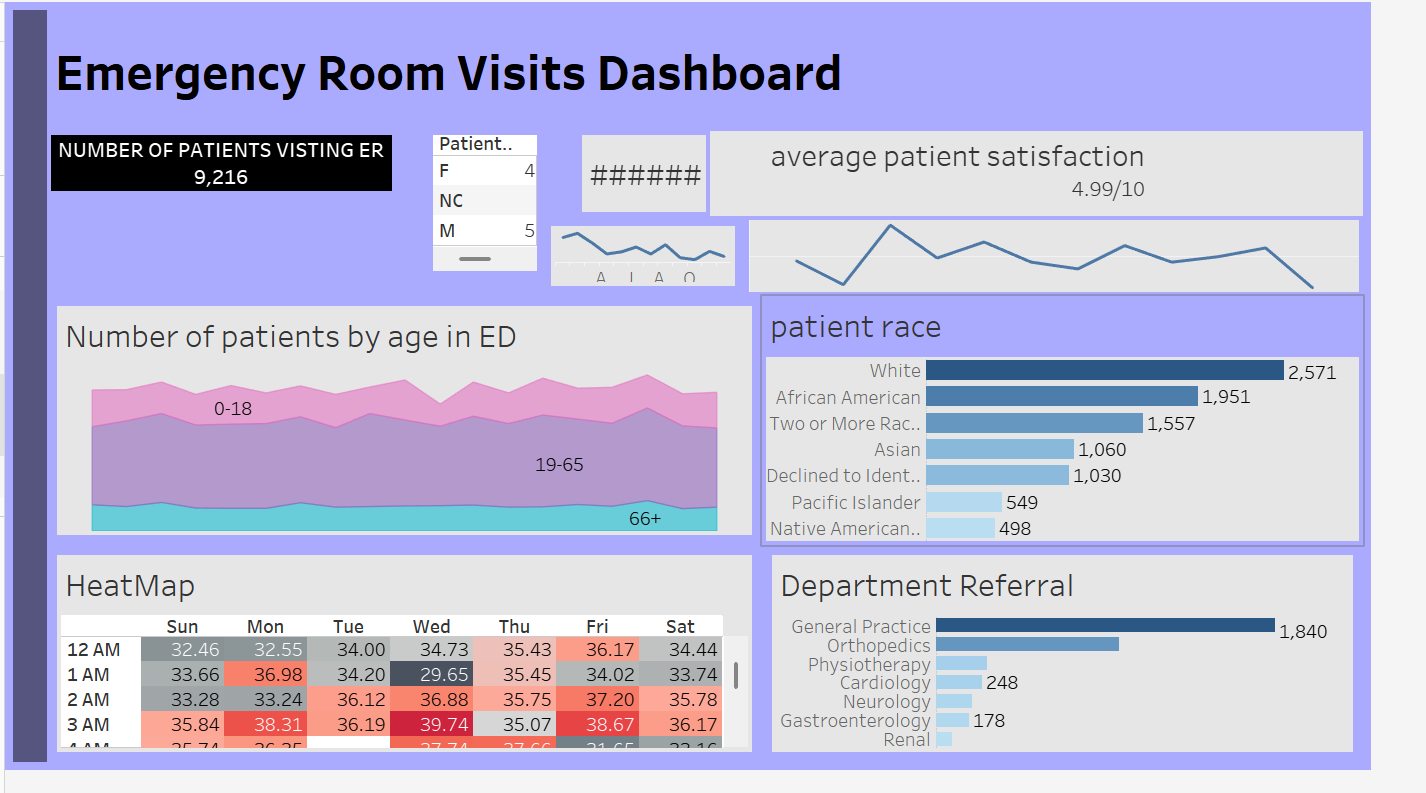

The dashboard page shown, as its layout file describes it:
{"tool":"tableau","page":{"name":"Dashboard 1","canvas":[1366,768],"ordinal":0},"visuals":[{"type":"image","param":"C:/Users/kavya vytla/Downloads/Untitled design.png","box":[8,8,149.1,121]},{"type":"text","box":[157.1,8,1200.9,121]},{"type":"worksheet","title":"GENDER","mark":"Automatic","rows":["patient_gender"],"box":[306.3,129,150.2,165]},{"type":"image","param":"C:/Users/kavya vytla/Downloads/1.jpg","box":[456.5,129,111.5,85.5]},{"type":"worksheet","title":"average waittime","mark":"Automatic","box":[568,129,137,85.5]},{"type":"worksheet","title":"Average satisfaction","mark":"Automatic","box":[935,129,423,75]},{"type":"worksheet","title":"PT VISITS","mark":"Automatic","box":[167.1,139,129.1,145]},{"type":"worksheet","title":"PATIENT WAITIME","mark":"Automatic","rows":["patient_waittime"],"cols":["date"],"box":[466.5,224.5,263.5,59.5]},{"type":"worksheet","title":"PT SATISFACTION","mark":"Automatic","rows":["patient_sat_score"],"cols":["date"],"box":[750,224.5,598,59.5]},{"type":"worksheet","title":"Age groupings","mark":"Area","rows":["patient_id"],"cols":["date"],"box":[167.1,304,579.9,229]},{"type":"worksheet","title":"patient race","mark":"Automatic","rows":["patient_race"],"cols":["patient_id"],"box":[767,304,581,229]},{"type":"worksheet","title":"HeatMap","mark":"Square","rows":["date"],"cols":["date"],"box":[167.1,553,579.9,197]},{"type":"worksheet","title":"Department Referral","mark":"Automatic","rows":["department_referral"],"cols":["patient_id"],"box":[767,553,581,197]}]}

Visuals, with their boxes in screenshot pixels (x1, y1, x2, y2), scaled from the page's 1366x768 canvas onto the 1426x793 screenshot:
image: {"x1": 8, "y1": 8, "x2": 164, "y2": 133}
text: {"x1": 164, "y1": 8, "x2": 1418, "y2": 133}
"GENDER" worksheet: {"x1": 320, "y1": 133, "x2": 477, "y2": 304}
image: {"x1": 477, "y1": 133, "x2": 593, "y2": 221}
"average waittime" worksheet: {"x1": 593, "y1": 133, "x2": 736, "y2": 221}
"Average satisfaction" worksheet: {"x1": 976, "y1": 133, "x2": 1418, "y2": 211}
"PT VISITS" worksheet: {"x1": 174, "y1": 144, "x2": 309, "y2": 293}
"PATIENT WAITIME" worksheet: {"x1": 487, "y1": 232, "x2": 762, "y2": 293}
"PT SATISFACTION" worksheet: {"x1": 783, "y1": 232, "x2": 1407, "y2": 293}
"Age groupings" worksheet (Area marks): {"x1": 174, "y1": 314, "x2": 780, "y2": 550}
"patient race" worksheet: {"x1": 801, "y1": 314, "x2": 1407, "y2": 550}
"HeatMap" worksheet (Square marks): {"x1": 174, "y1": 571, "x2": 780, "y2": 774}
"Department Referral" worksheet: {"x1": 801, "y1": 571, "x2": 1407, "y2": 774}
